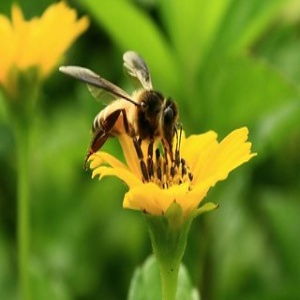bee: (57, 50, 181, 182)
